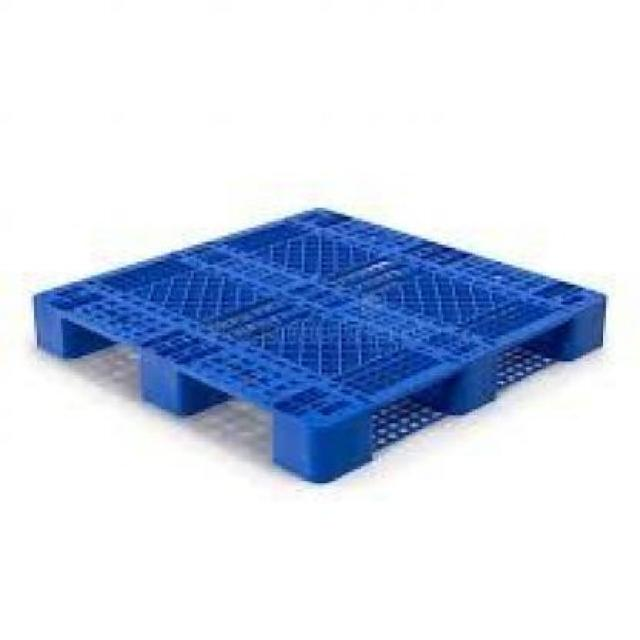pallet: (21, 196, 625, 484)
